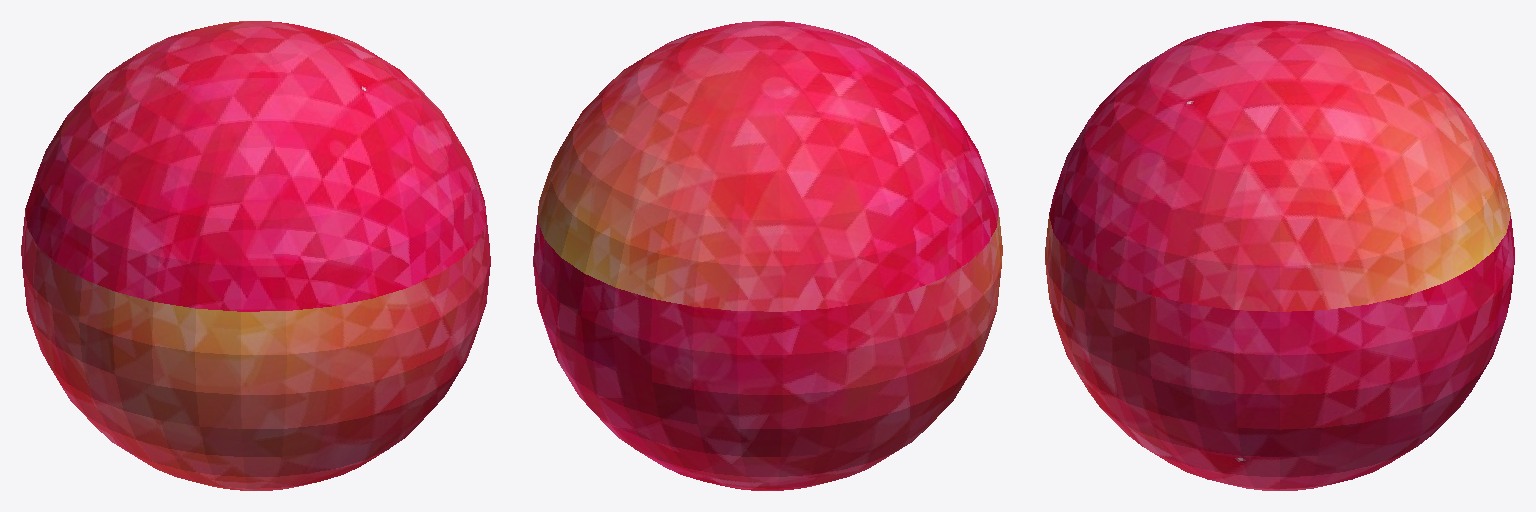
The picture shows the model from 3 angles: view 1: azimuth 30°, elevation 25°; view 2: azimuth 150°, elevation 25°; view 3: azimuth 270°, elevation 25°; orthographic projection.
Parts seen in each view (by area): view 1: Sphere; view 2: Sphere; view 3: Sphere.
Boxes of the visible parts, <box> form: Sphere: <box>21,21,490,490</box>; Sphere: <box>533,21,1002,490</box>; Sphere: <box>1045,21,1514,490</box>.
Bounding box in the file's own units: 4 × 4 × 4.
1 materials, 1 textured.